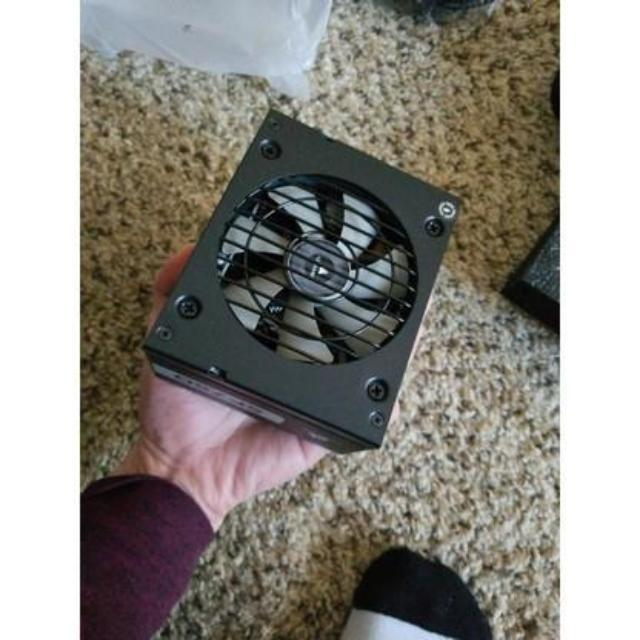PSU: (113, 110, 476, 470)
